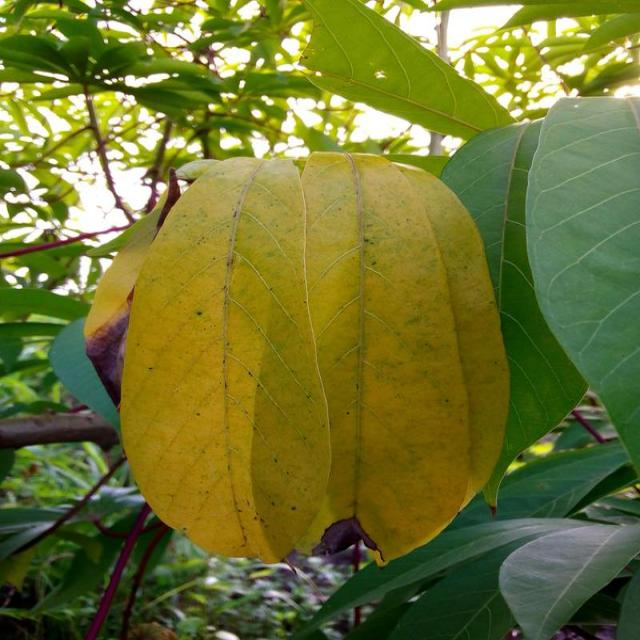cassava leaf: (118, 150, 511, 568), (438, 116, 590, 511), (525, 94, 640, 482)
